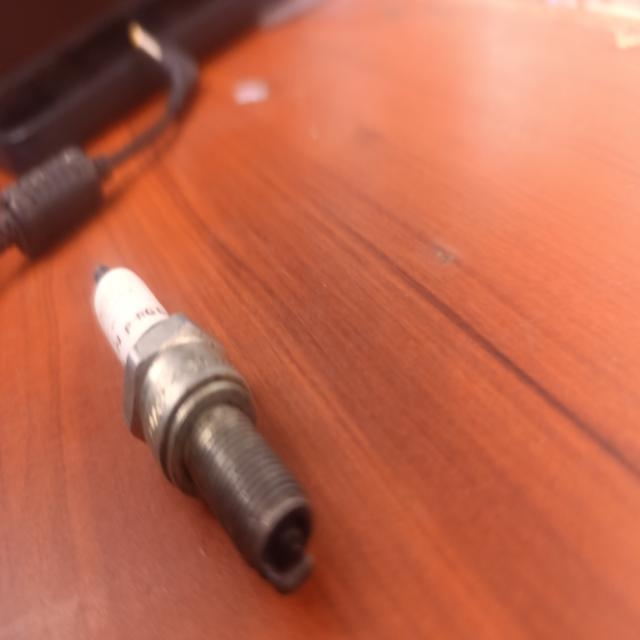Mause: (94, 265, 313, 593)
